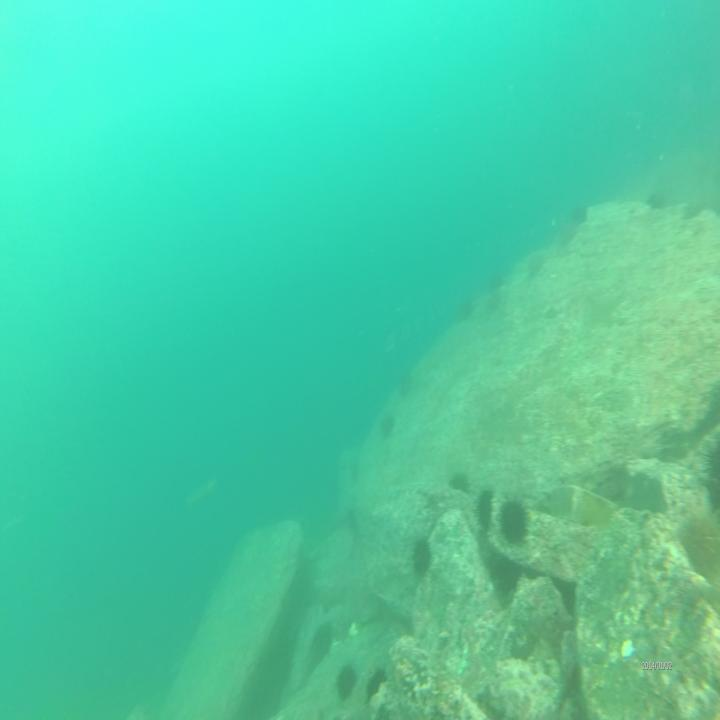echinus: (682, 509, 720, 580), (496, 491, 532, 543), (473, 484, 498, 533), (309, 620, 333, 669), (410, 535, 434, 581), (334, 659, 359, 703), (367, 664, 389, 706), (686, 187, 709, 223), (448, 465, 472, 497), (456, 290, 477, 323), (526, 247, 544, 281), (645, 186, 668, 210), (569, 204, 590, 228), (379, 413, 395, 444), (489, 264, 505, 292), (399, 363, 412, 394)
